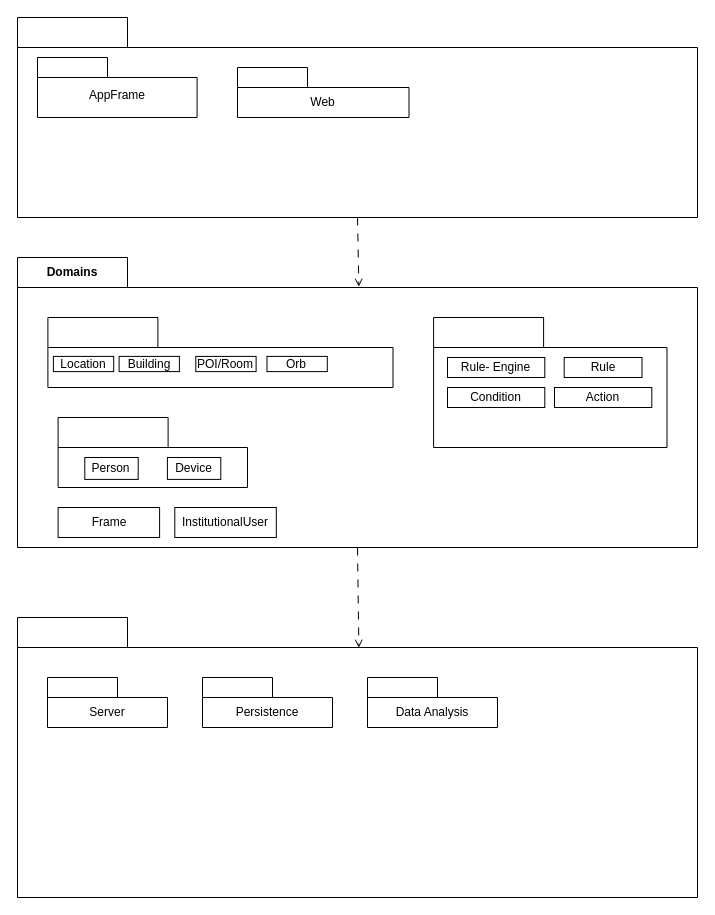
Some shapes in this 715 by 915 pixel diagram are drawn without their labels. The box of each missing label's shape, as (x1, y1, x2, y2) in pixels:
Business Logic: (433, 316, 667, 448)
EndUser: (57, 416, 248, 488)
Structure: (47, 316, 393, 388)
Technical Services: (16, 616, 698, 898)
UI: (16, 16, 698, 218)
